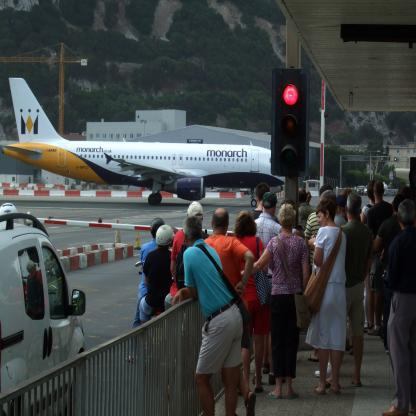CIV_Plane: (6, 74, 288, 204)
